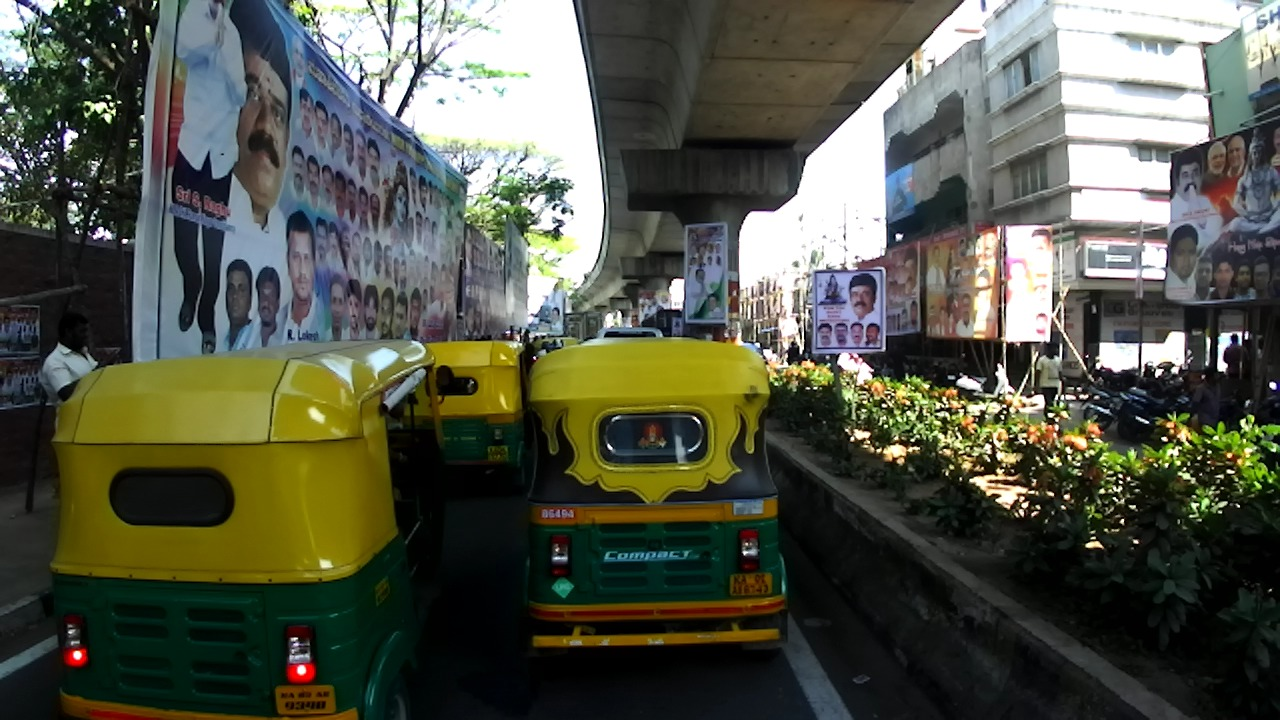autorickshaw: (52, 340, 456, 720), (517, 336, 791, 678), (421, 340, 522, 496), (535, 337, 580, 360)
car: (598, 327, 666, 345)
motorcycle: (1082, 361, 1156, 439), (1111, 381, 1194, 443), (1236, 382, 1279, 472), (1074, 354, 1141, 403), (1193, 394, 1259, 436), (956, 362, 1016, 405), (925, 361, 950, 394), (1156, 360, 1179, 392), (847, 369, 872, 389), (529, 351, 547, 372), (906, 358, 924, 378), (785, 350, 801, 366), (523, 328, 531, 349)
person: (41, 315, 118, 505), (1034, 340, 1065, 427), (1191, 363, 1220, 438), (1224, 331, 1248, 387), (509, 325, 517, 341), (501, 332, 509, 342)
rider: (786, 341, 800, 366), (852, 357, 873, 373), (799, 350, 816, 369), (836, 350, 850, 372), (537, 341, 554, 359), (844, 353, 858, 374), (820, 351, 832, 371), (477, 334, 485, 344), (482, 333, 491, 341)
vehicle fallback: (638, 309, 682, 336), (866, 355, 905, 379)
